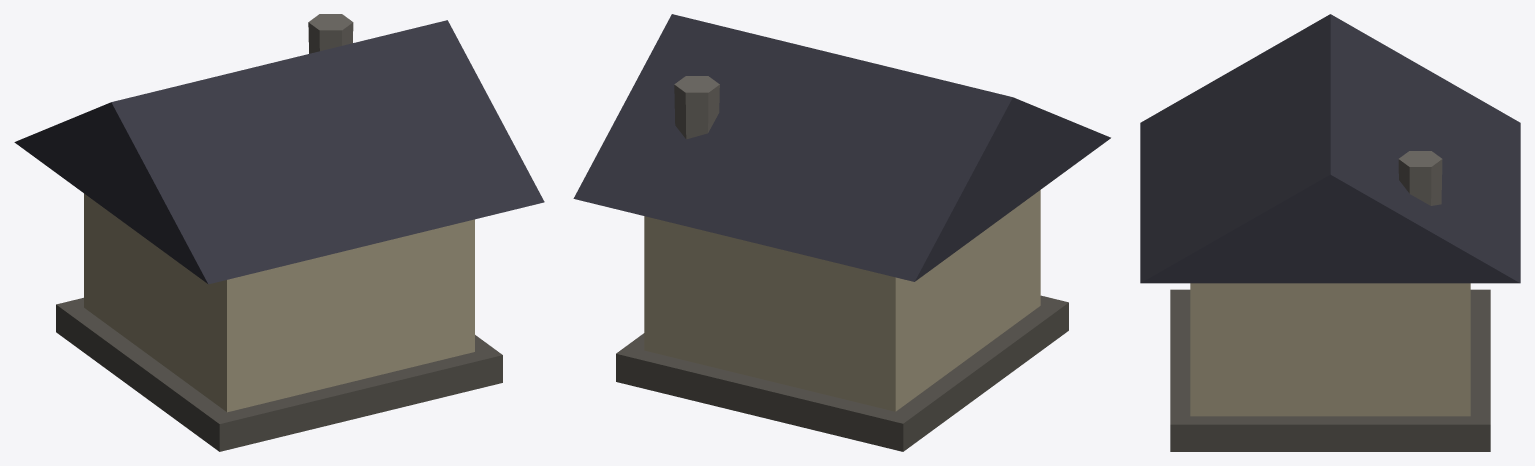
Rendered from s2_clerk_kitchen.glb.
The picture shows the model from 3 angles, left to right: view 1: azimuth 30°, elevation 25°; view 2: azimuth 150°, elevation 25°; view 3: azimuth 270°, elevation 25°; orthographic projection. The views are drawn at different scales.
Visible parts, largest first — view 1: s2_clerk_kitchen; view 2: s2_clerk_kitchen; view 3: s2_clerk_kitchen.
Part boxes in pixels (box(x1,y1,x2,y2)): s2_clerk_kitchen: box(14, 14, 544, 451); s2_clerk_kitchen: box(573, 14, 1110, 451); s2_clerk_kitchen: box(1140, 14, 1520, 451).
Size of the model in its own units: 3.8 by 3.2 by 3.8.
